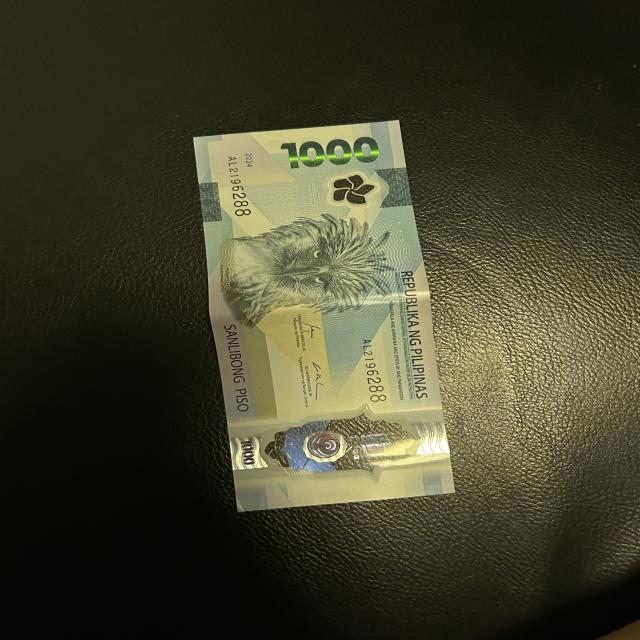clear_window: (245, 414, 430, 476)
eagle: (217, 226, 389, 314)
sampaguita: (329, 174, 382, 207)
